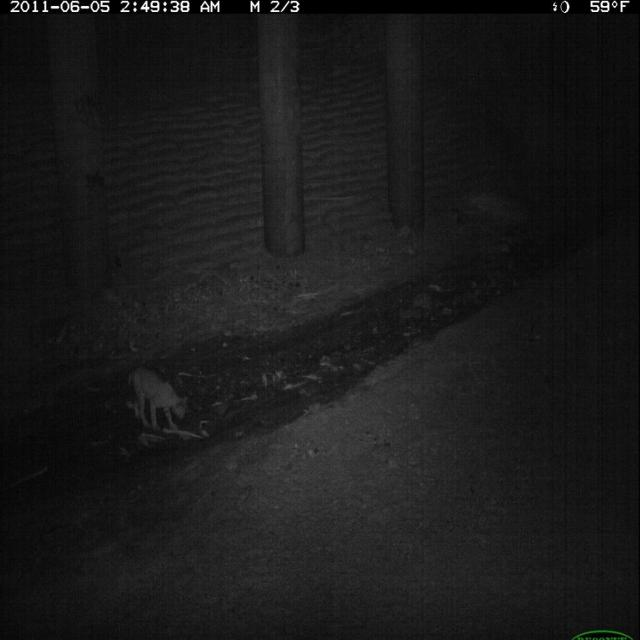bobcat: (123, 359, 193, 441)
